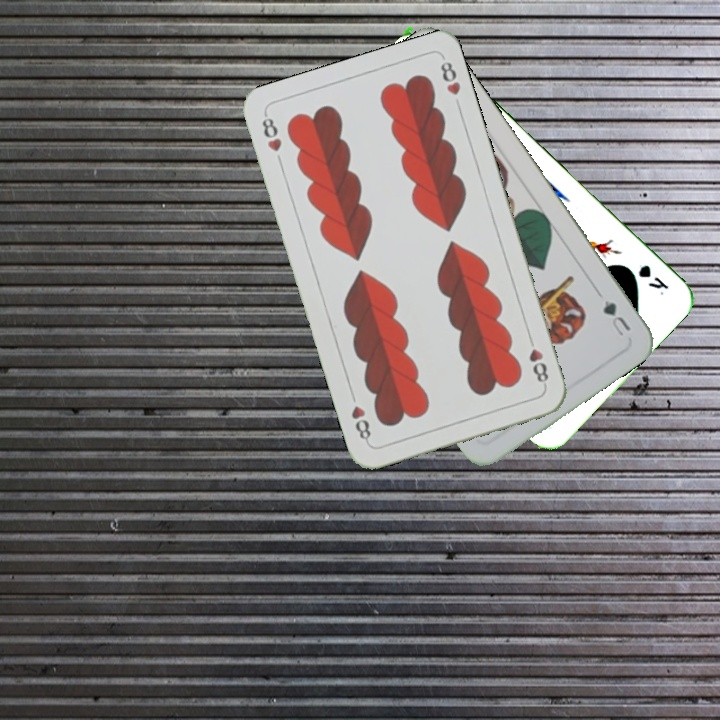GK: (634, 260, 671, 299)
GU: (599, 295, 634, 341)
H8: (524, 332, 551, 389), (258, 110, 285, 155)
